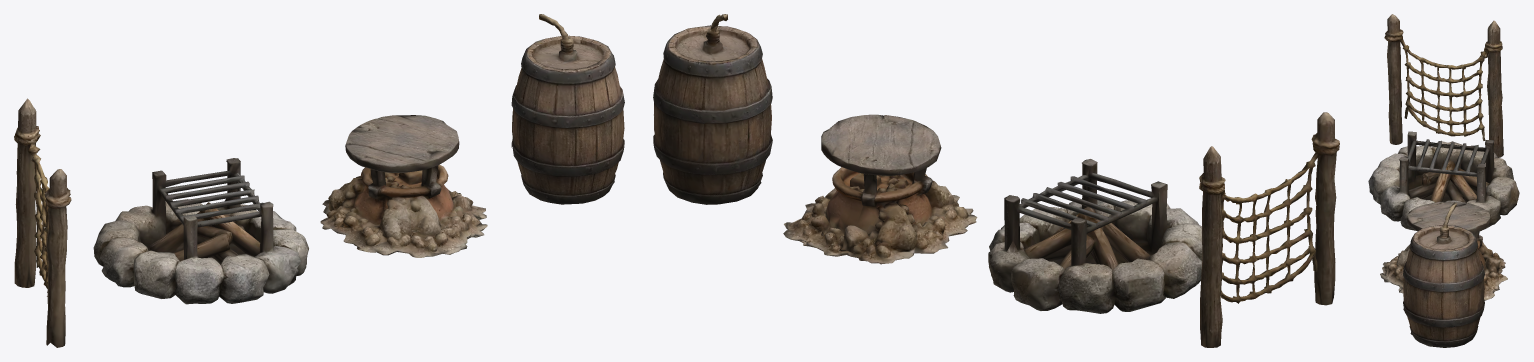
Rendered from traps_blast.glb.
The picture shows the model from 3 angles, left to right: view 1: azimuth 30°, elevation 25°; view 2: azimuth 150°, elevation 25°; view 3: azimuth 270°, elevation 25°; orthographic projection. The views are drawn at different scales.
Visible parts, largest first — view 1: firepit, powder_barrel, landmine, net; view 2: firepit, powder_barrel, landmine, net; view 3: firepit, powder_barrel, net, landmine.
Boxes of the visible parts, x1=… form: firepit: x1=93, y1=158, x2=308, y2=304; powder_barrel: x1=511, y1=14, x2=624, y2=204; landmine: x1=320, y1=115, x2=487, y2=257; net: x1=14, y1=98, x2=71, y2=347; firepit: x1=988, y1=159, x2=1202, y2=313; powder_barrel: x1=653, y1=14, x2=772, y2=204; landmine: x1=783, y1=114, x2=977, y2=264; net: x1=1199, y1=112, x2=1339, y2=347; firepit: x1=1368, y1=131, x2=1519, y2=230; powder_barrel: x1=1403, y1=202, x2=1484, y2=347; net: x1=1384, y1=14, x2=1503, y2=157; landmine: x1=1380, y1=201, x2=1507, y2=300.
Bounding box in the file's own units: 1.01 × 0.2964 × 0.3005.
Materials: 1 (1 with a texture image).
